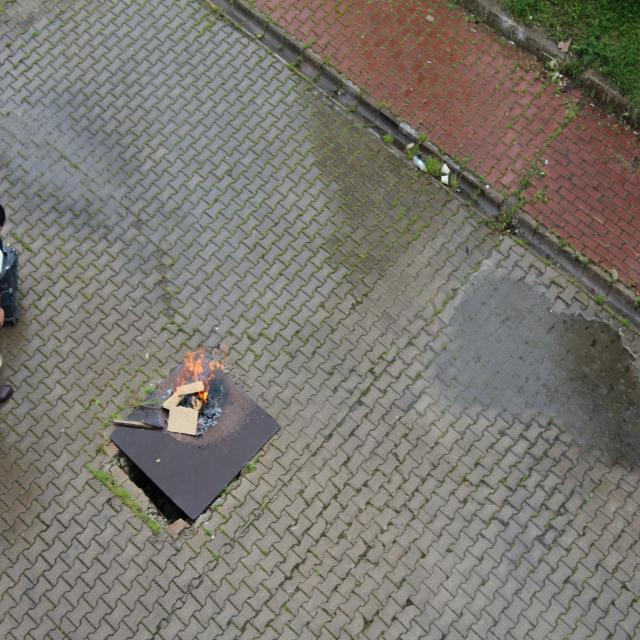fire: (180, 348, 234, 398)
